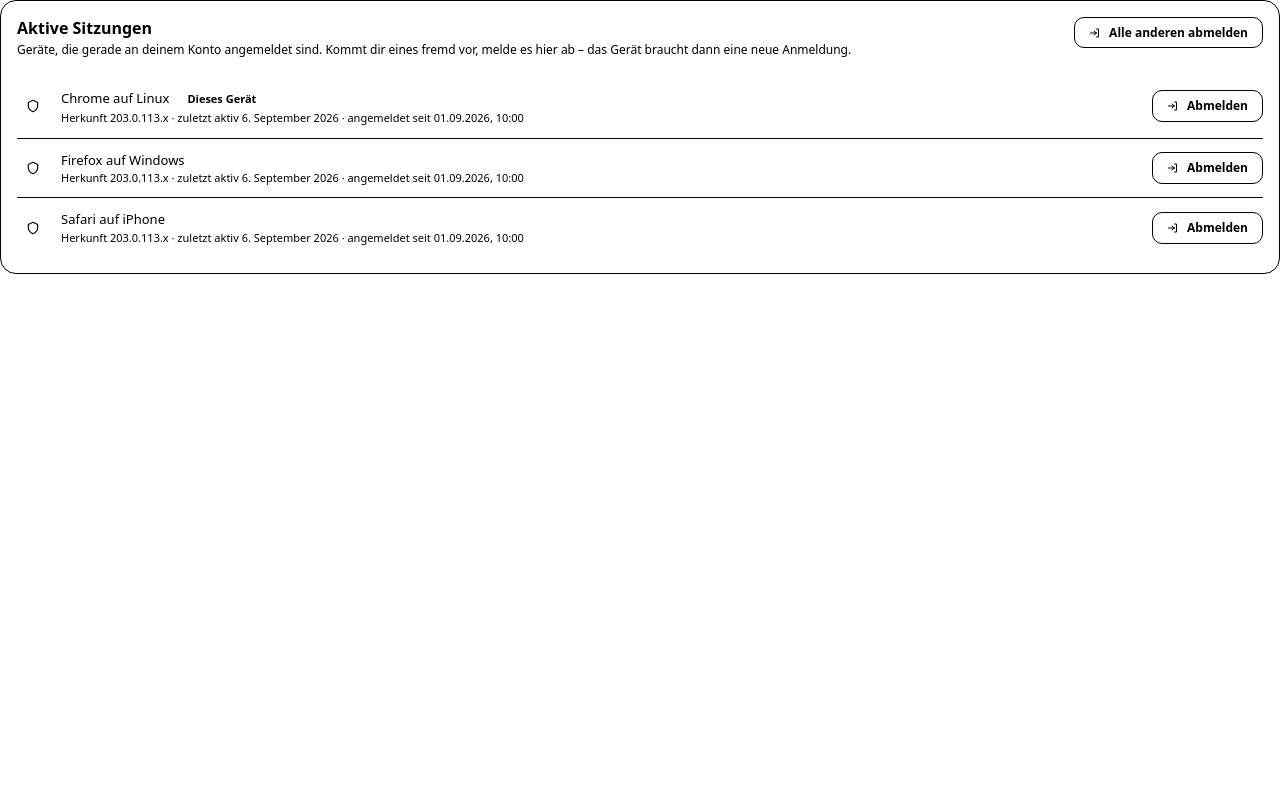
SessionsPanel – Abmelden › beendet mit „Alle anderen abmelden" jede Sitzung außer der aktuellen – mit einem Aufruf
Click the button "Alle anderen abmelden" at (1169, 33), box x1=1074 y1=17 x2=1263 y2=48
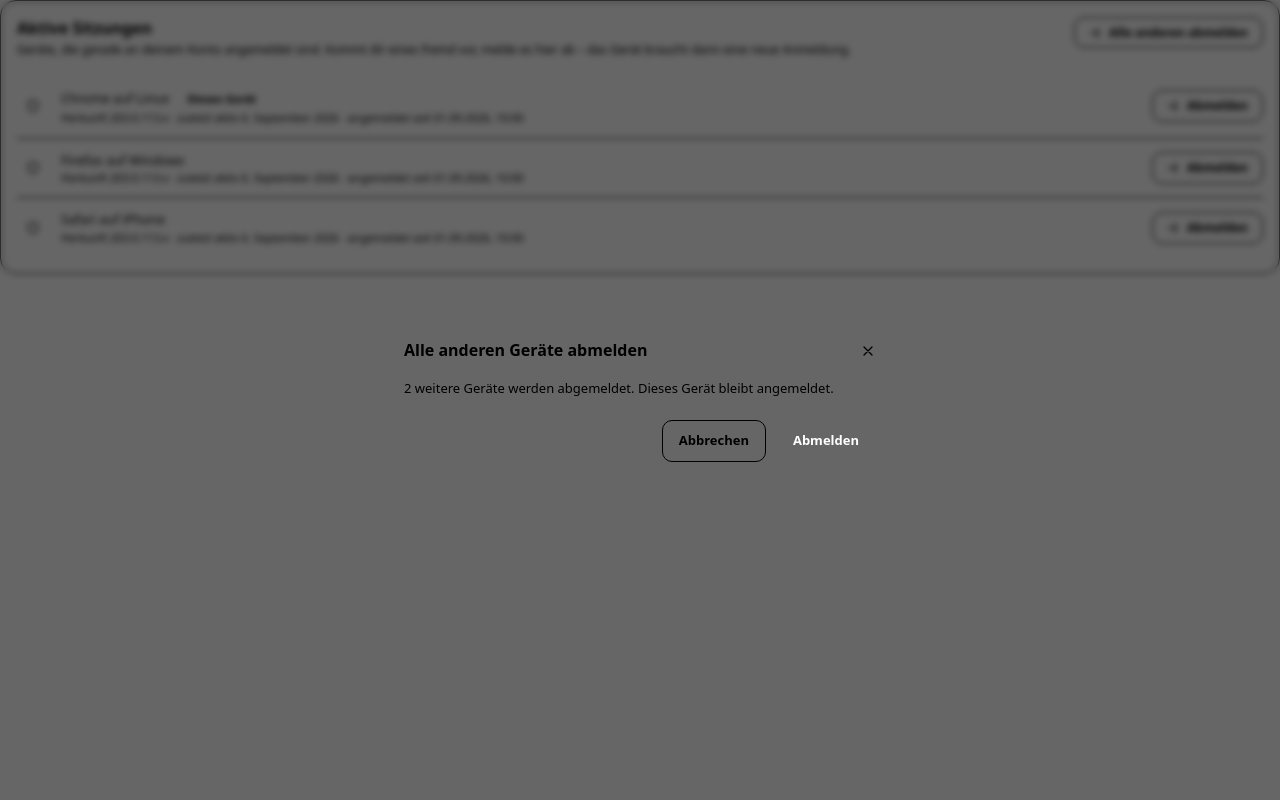
Click the button "Abmelden" at (826, 441), box x1=776 y1=420 x2=876 y2=462
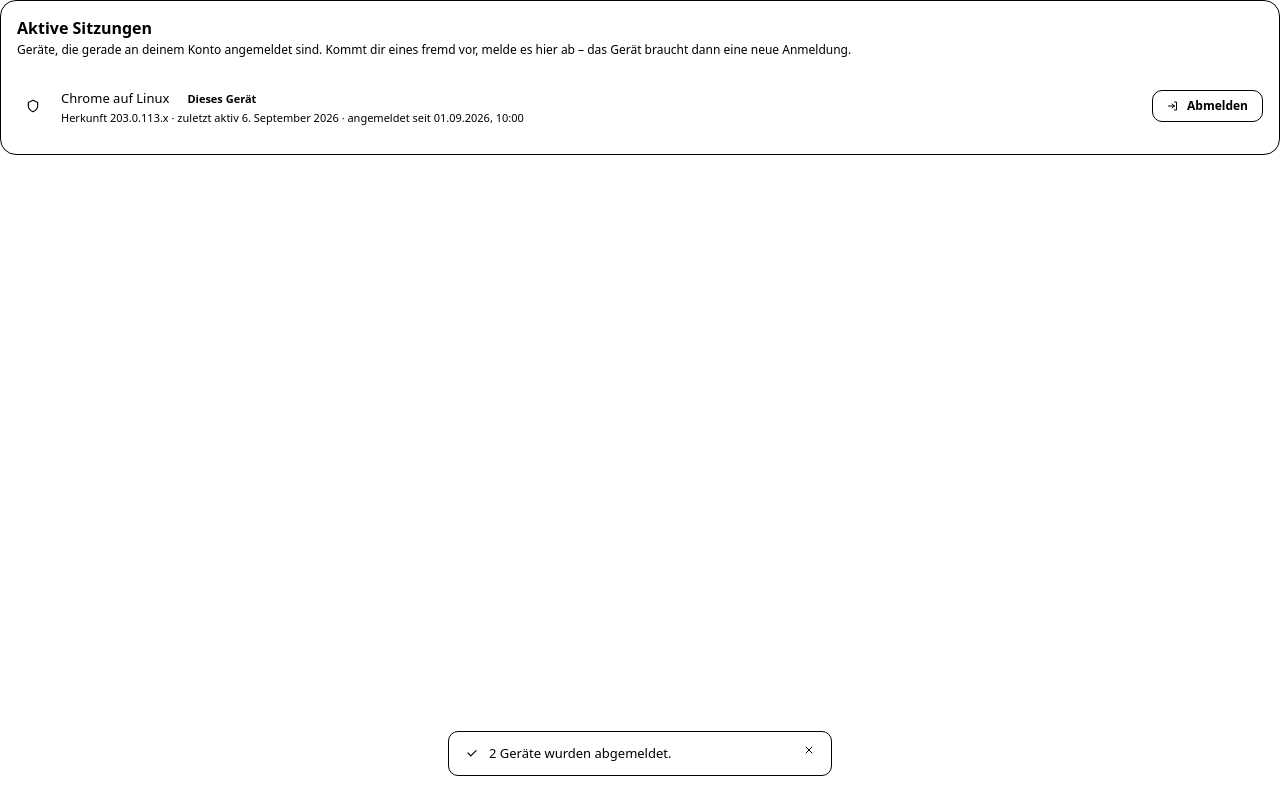
Expected: the text "Chrome auf Linux" is shown, x1=61 y1=89 x2=169 y2=108
Now the text "Firefox auf Windows" is gone
Now the text "Safari auf iPhone" is gone
